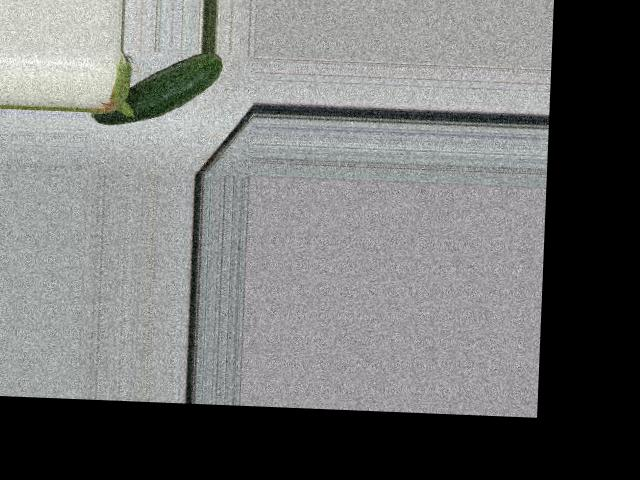cucumber: (91, 48, 223, 128)
